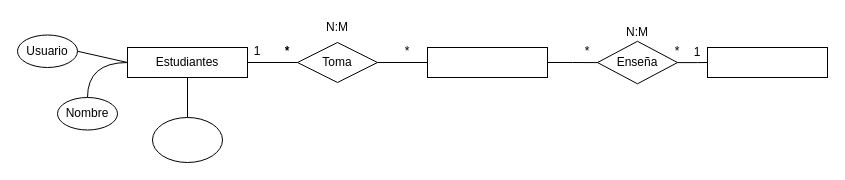
Some shapes in this 845 by 180 pixel diagram are drawn without their labels. The shapes that lost their labels are listed below. From the top down, each one's centre as x and y in pixels, then its label:
(487,62): Asignaturas
(767,62): Profesores
(187,139): Legajo
